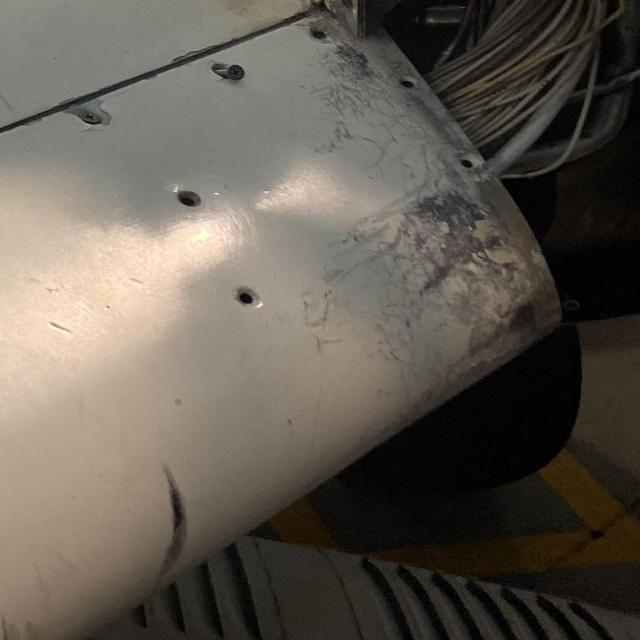Missing-head: (452, 150, 483, 174), (176, 191, 204, 210), (236, 290, 261, 309), (308, 23, 332, 40), (396, 77, 423, 91)
Scratch: (316, 190, 559, 425)
